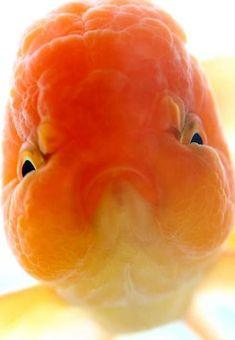goldfish: (3, 7, 232, 308)
